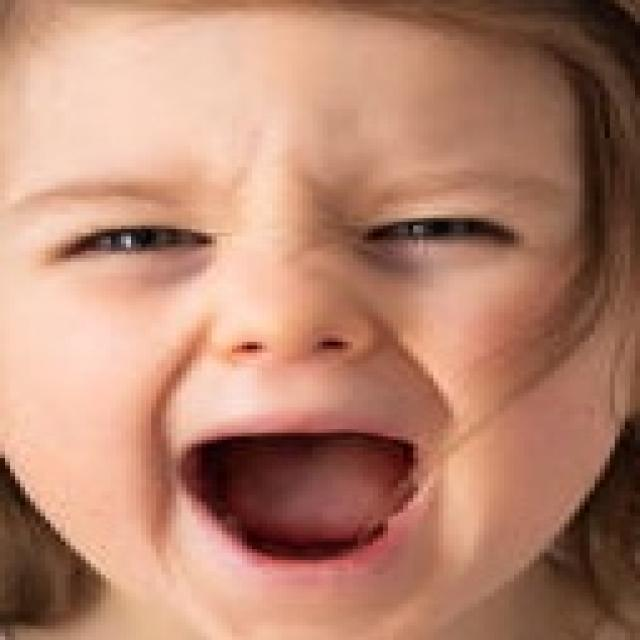Anxiety: (5, 0, 622, 636)
